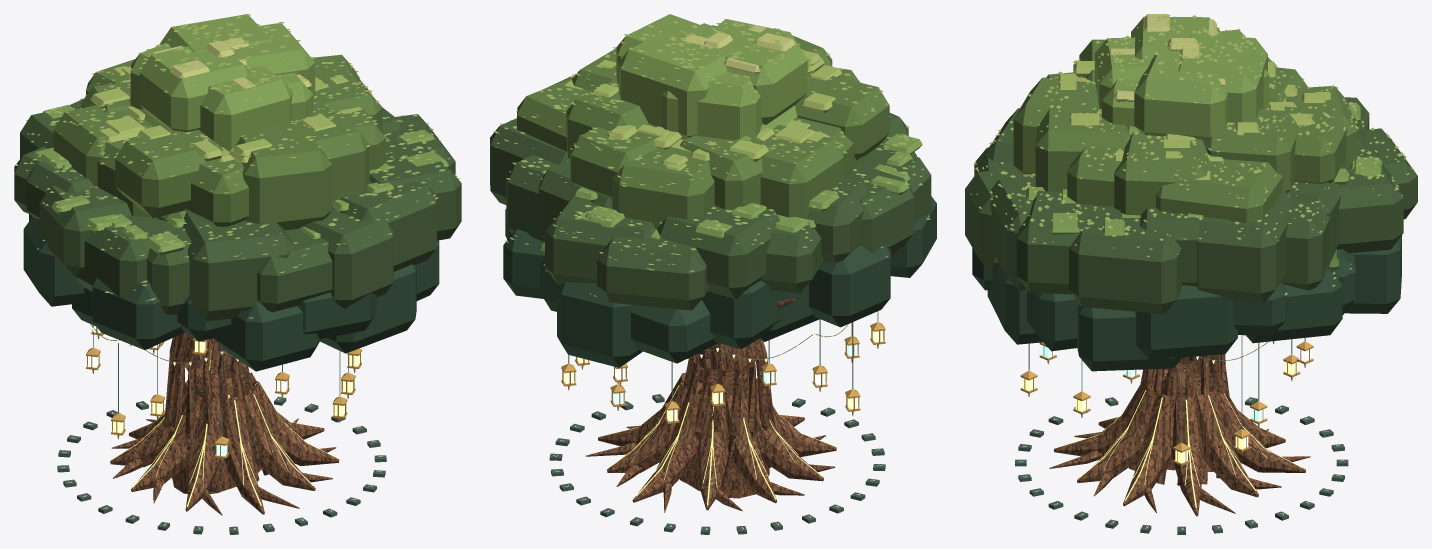
3 views of the same model, side by side, from view 1: azimuth 30°, elevation 25°; view 2: azimuth 150°, elevation 25°; view 3: azimuth 270°, elevation 25° (orthographic).
Parts seen in each view (by area): view 1: Crown__leaf_shadow, Crown__leaf_fern, Crown__leaf_green, Crown__leaf_deep, Buttress roots__root_bark, Tiny sunlit oak leaves, Crown__leaf_light, Heartwood__root_bark_shadow, Enchantment__rootward_moonstone, Twisted ancient bole, Enchantment__rootward_lantern_gold, Heartwood__root_bark_light (+5 smaller); view 2: Crown__leaf_shadow, Crown__leaf_fern, Crown__leaf_deep, Crown__leaf_green, Buttress roots__root_bark, Tiny sunlit oak leaves, Crown__leaf_light, Heartwood__root_bark_shadow, Enchantment__rootward_moonstone, Enchantment__rootward_lantern_gold, Twisted ancient bole, Heartwood__root_bark_light (+5 smaller); view 3: Crown__leaf_shadow, Crown__leaf_fern, Crown__leaf_deep, Crown__leaf_green, Buttress roots__root_bark, Tiny sunlit oak leaves, Crown__leaf_light, Enchantment__rootward_moonstone, Enchantment__rootward_lantern_gold, Crown__leaf_tip, Heartwood__root_bark_shadow, Living gold fitted to bark and ward stones (+5 smaller).
Boxes of the visible parts, x1,y1,x2,y2 form: Crown__leaf_shadow: (14,82,461,320); Crown__leaf_fern: (53,54,385,314); Crown__leaf_green: (33,14,448,255); Crown__leaf_deep: (23,214,439,371); Buttress roots__root_bark: (110,372,339,514); Tiny sunlit oak leaves: (15,14,459,318); Crown__leaf_light: (90,66,362,165); Heartwood__root_bark_shadow: (169,332,259,487); Enchantment__rootward_moonstone: (57,396,386,534); Twisted ancient bole: (170,333,261,493); Enchantment__rootward_lantern_gold: (86,325,361,462); Heartwood__root_bark_light: (164,335,268,487); Crown__leaf_shadow: (490,75,931,310); Crown__leaf_fern: (517,25,889,253); Crown__leaf_deep: (503,196,936,367); Crown__leaf_green: (566,14,922,239); Buttress roots__root_bark: (598,371,836,510); Tiny sunlit oak leaves: (493,21,930,296); Crown__leaf_light: (564,50,842,170); Heartwood__root_bark_shadow: (683,339,773,487); Enchantment__rootward_moonstone: (549,394,885,534); Enchantment__rootward_lantern_gold: (561,322,885,427); Twisted ancient bole: (685,340,769,498); Heartwood__root_bark_light: (679,344,757,483); Crown__leaf_shadow: (965,97,1417,314); Crown__leaf_fern: (1013,39,1357,269); Crown__leaf_deep: (972,235,1401,371); Crown__leaf_green: (1021,16,1382,235); Buttress roots__root_bark: (1054,369,1305,516); Tiny sunlit oak leaves: (970,14,1413,295); Crown__leaf_light: (1056,61,1330,179); Enchantment__rootward_moonstone: (1015,397,1348,534); Enchantment__rootward_lantern_gold: (1020,341,1313,469); Crown__leaf_tip: (1110,14,1225,101); Heartwood__root_bark_shadow: (1129,354,1229,484); Living gold fitted to bark and ward stones: (1019,380,1343,529).
Bounding box in the file's own units: 22.37 × 24.72 × 23.1.
Materials: 18 (3 with a texture image).
